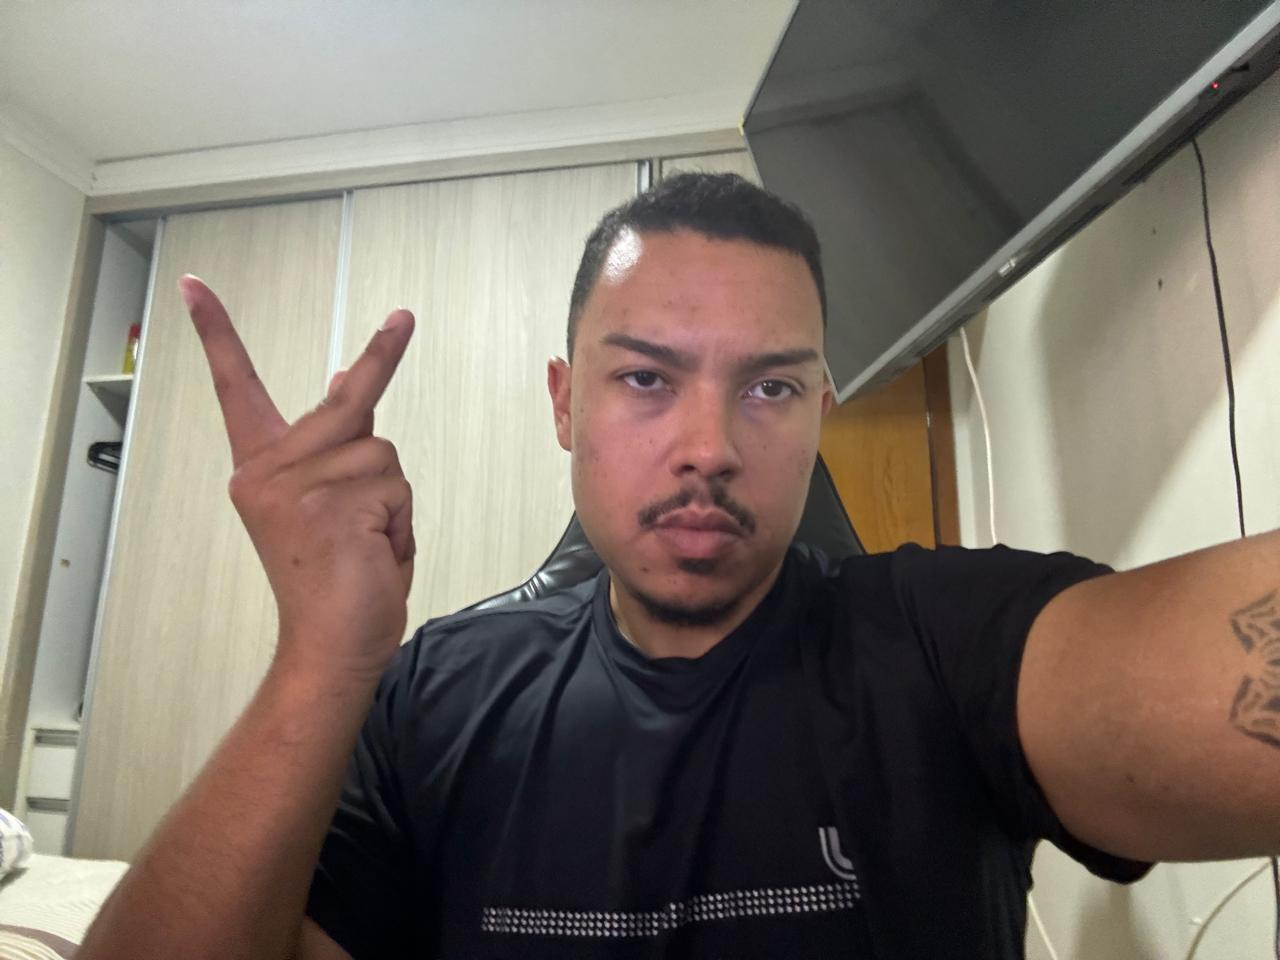h: (170, 268, 436, 669)
